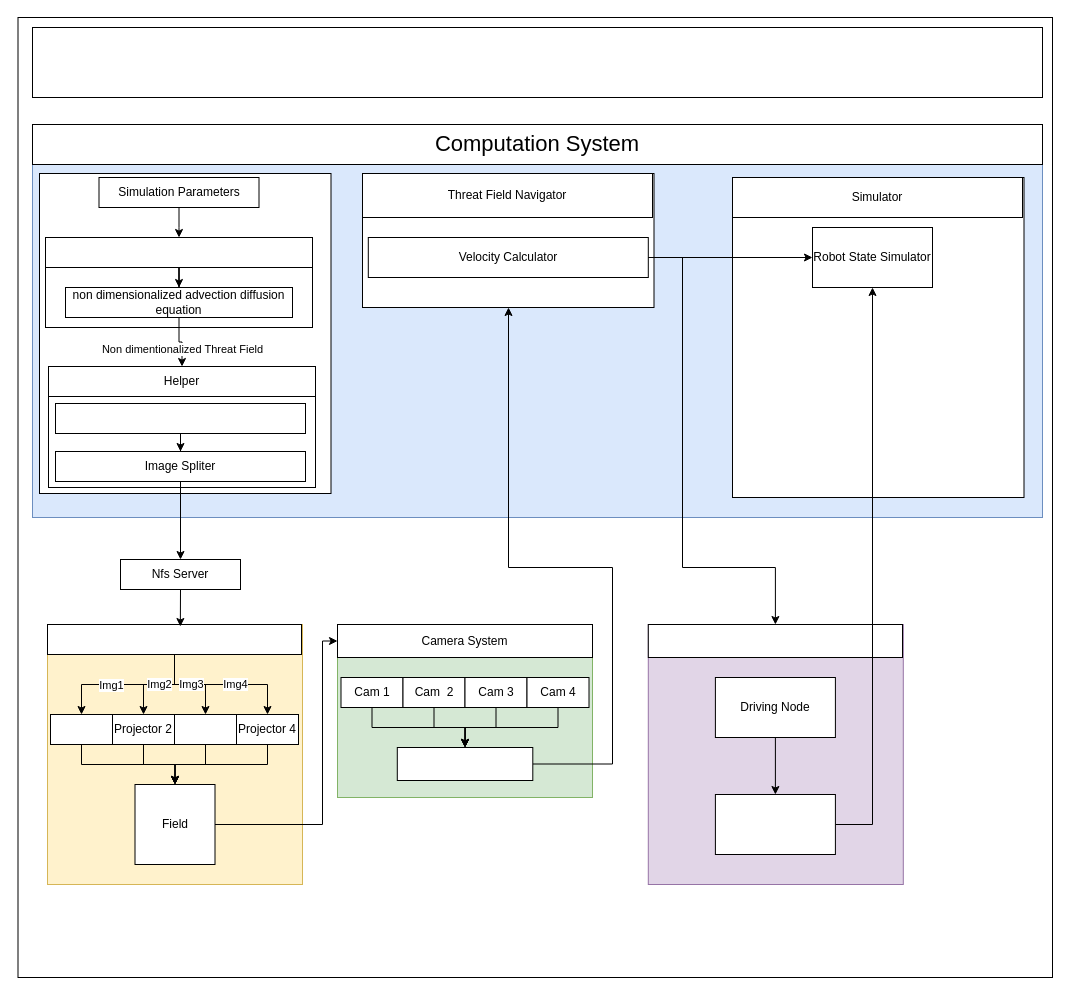
The diagram is 1070 pixels wide and 995 high, and some of its shapes have lost their labels. Each missing label, with the box of its shape:
Hue Threat Field Generator: (54, 402, 306, 434)
Normaized Color Values: (396, 746, 533, 780)
Projector 1: (50, 714, 112, 744)
Projector 3: (174, 714, 236, 744)
Projector System: (46, 624, 302, 654)
Robot State: (714, 794, 835, 854)
Robot System: (647, 624, 902, 658)
System Diagram: (32, 26, 1042, 98)
Threat Field Generator: (44, 236, 312, 268)
